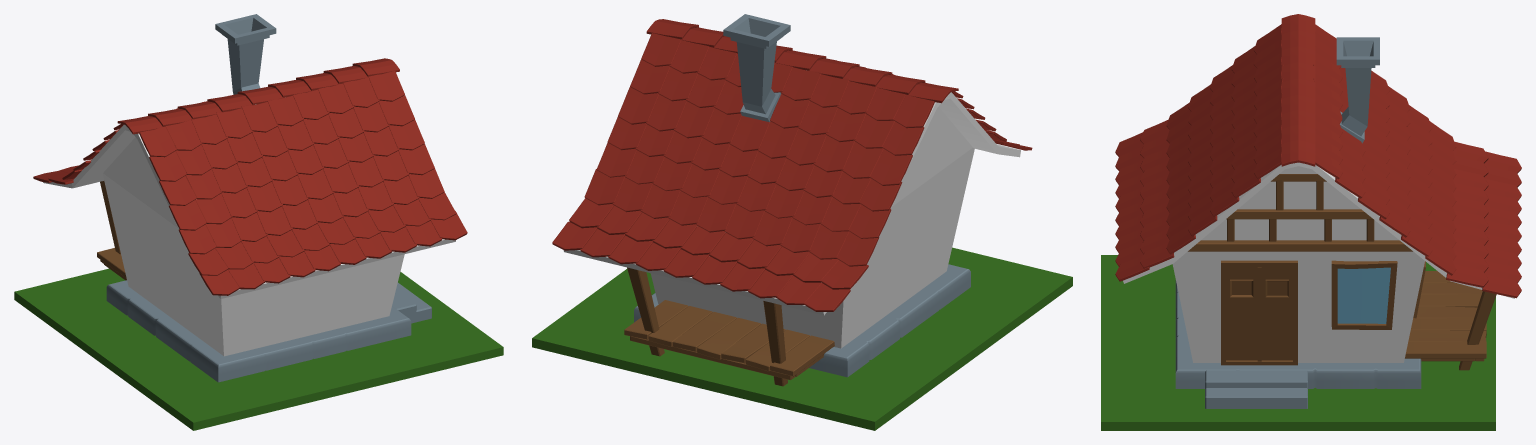
Rendered from House.fbx.
3 views of the same model, side by side, from view 1: azimuth 30°, elevation 25°; view 2: azimuth 150°, elevation 25°; view 3: azimuth 270°, elevation 25° (orthographic). The views are drawn at different scales.
Visible parts, largest first — view 1: pCube113; view 2: pCube113; view 3: pCube113.
Boxes of the visible parts, x1,y1,x2,y2 form: pCube113: (14, 14, 503, 430); pCube113: (532, 14, 1072, 430); pCube113: (1101, 14, 1521, 430).
Bounding box in the file's own units: 15.02 × 12.87 × 16.01.
